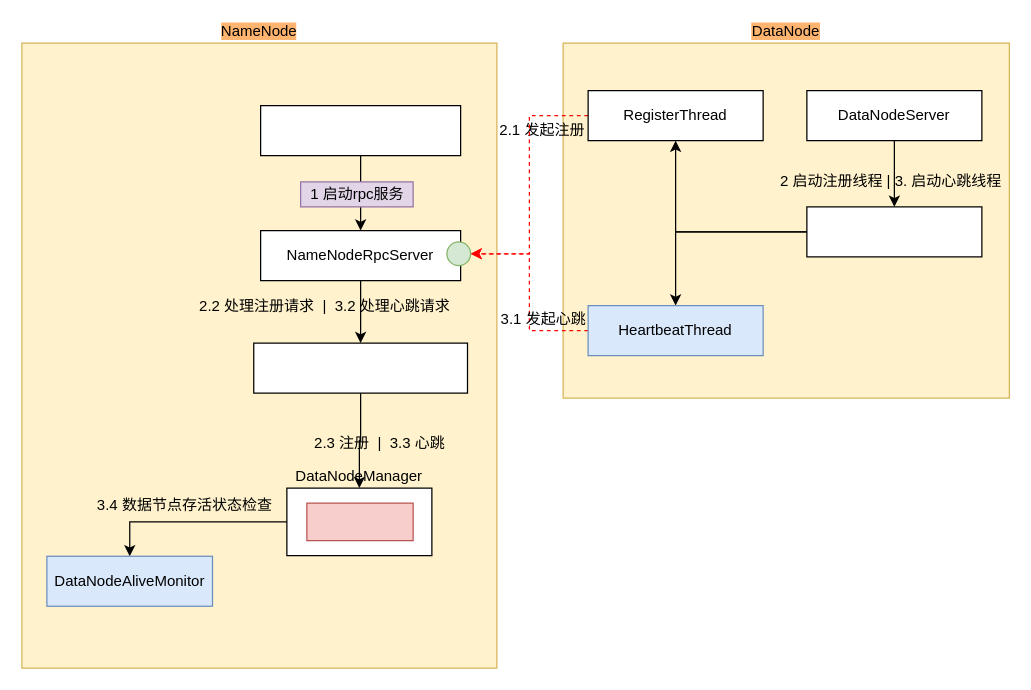
Some shapes in this 1031 by 690 pixel diagram are drawn without their labels. The shapes that lost their labels are listed below. From the top down, each one's centre as x and y in pixels, then its label:
[360,130]: NameNodeServer
[894,231]: NameNodeRpcClient
[360,367]: NameNodeRpcService
[359,521]: DataNode缓存
